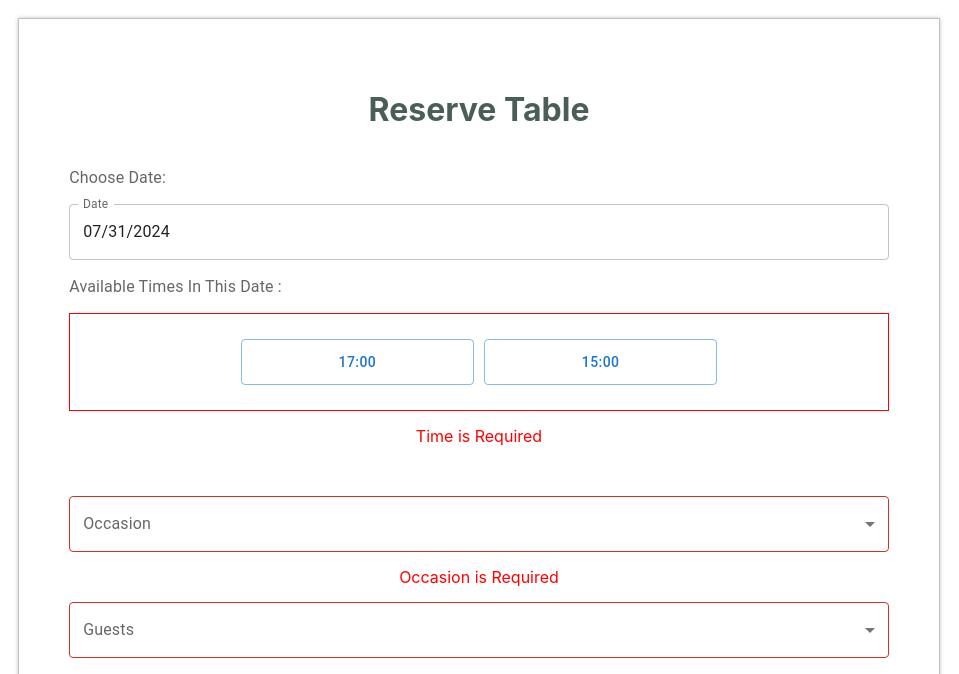
Test: test occasion validation › hide error message when choose occasion
The image size is (959, 674).
Step 1. Press the mouse on the 1st dropdown named "Occasion" → point(479, 524), box [69,496,889,552]
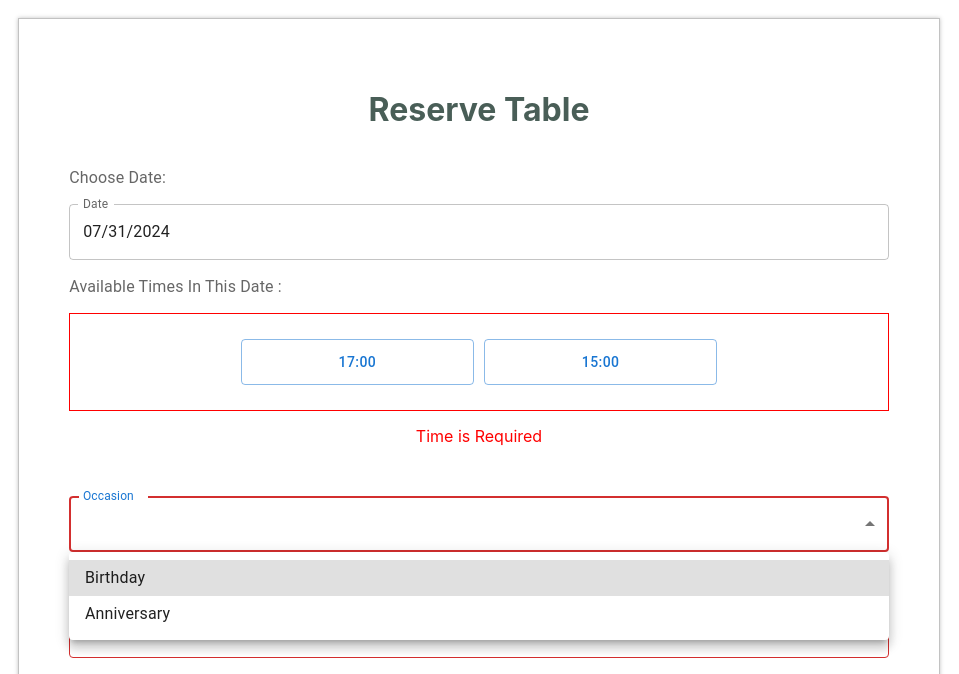
Step 2. Click the option "Birthday" → point(115, 578), box [69,560,889,596]
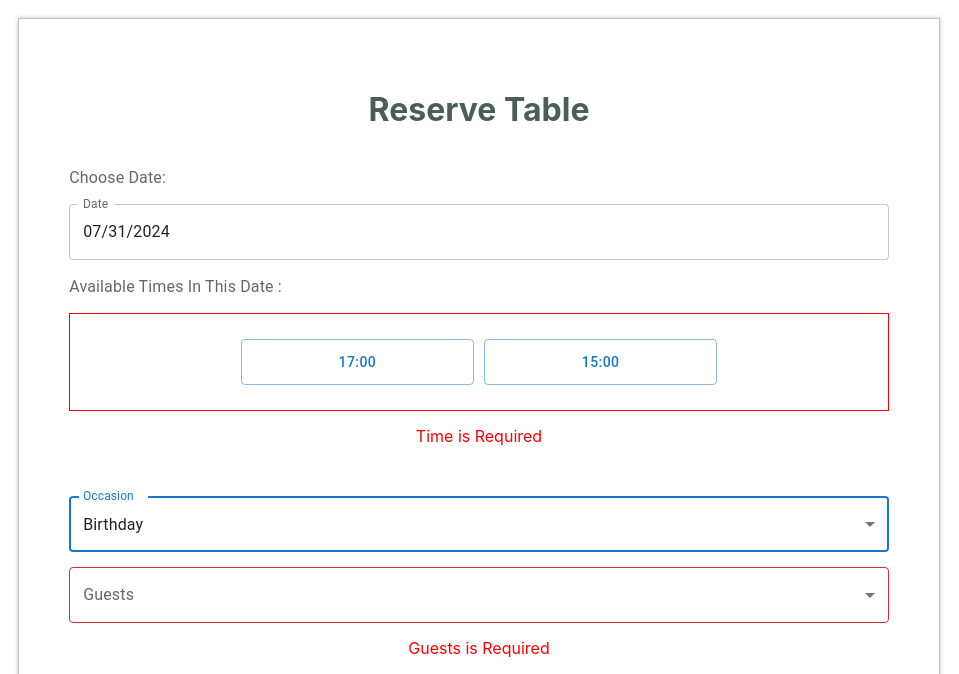
Result: the text "Occasion is Required" is gone
